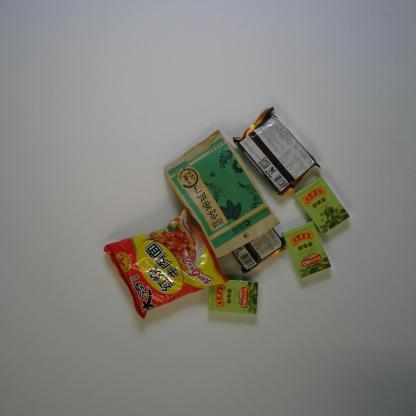Candy: (294, 175, 350, 236), (281, 220, 333, 280), (208, 278, 259, 316)
Dessert: (231, 106, 322, 197), (230, 227, 288, 275)
Dried Food: (162, 128, 281, 258)
Instant Noodles: (102, 206, 230, 320)
